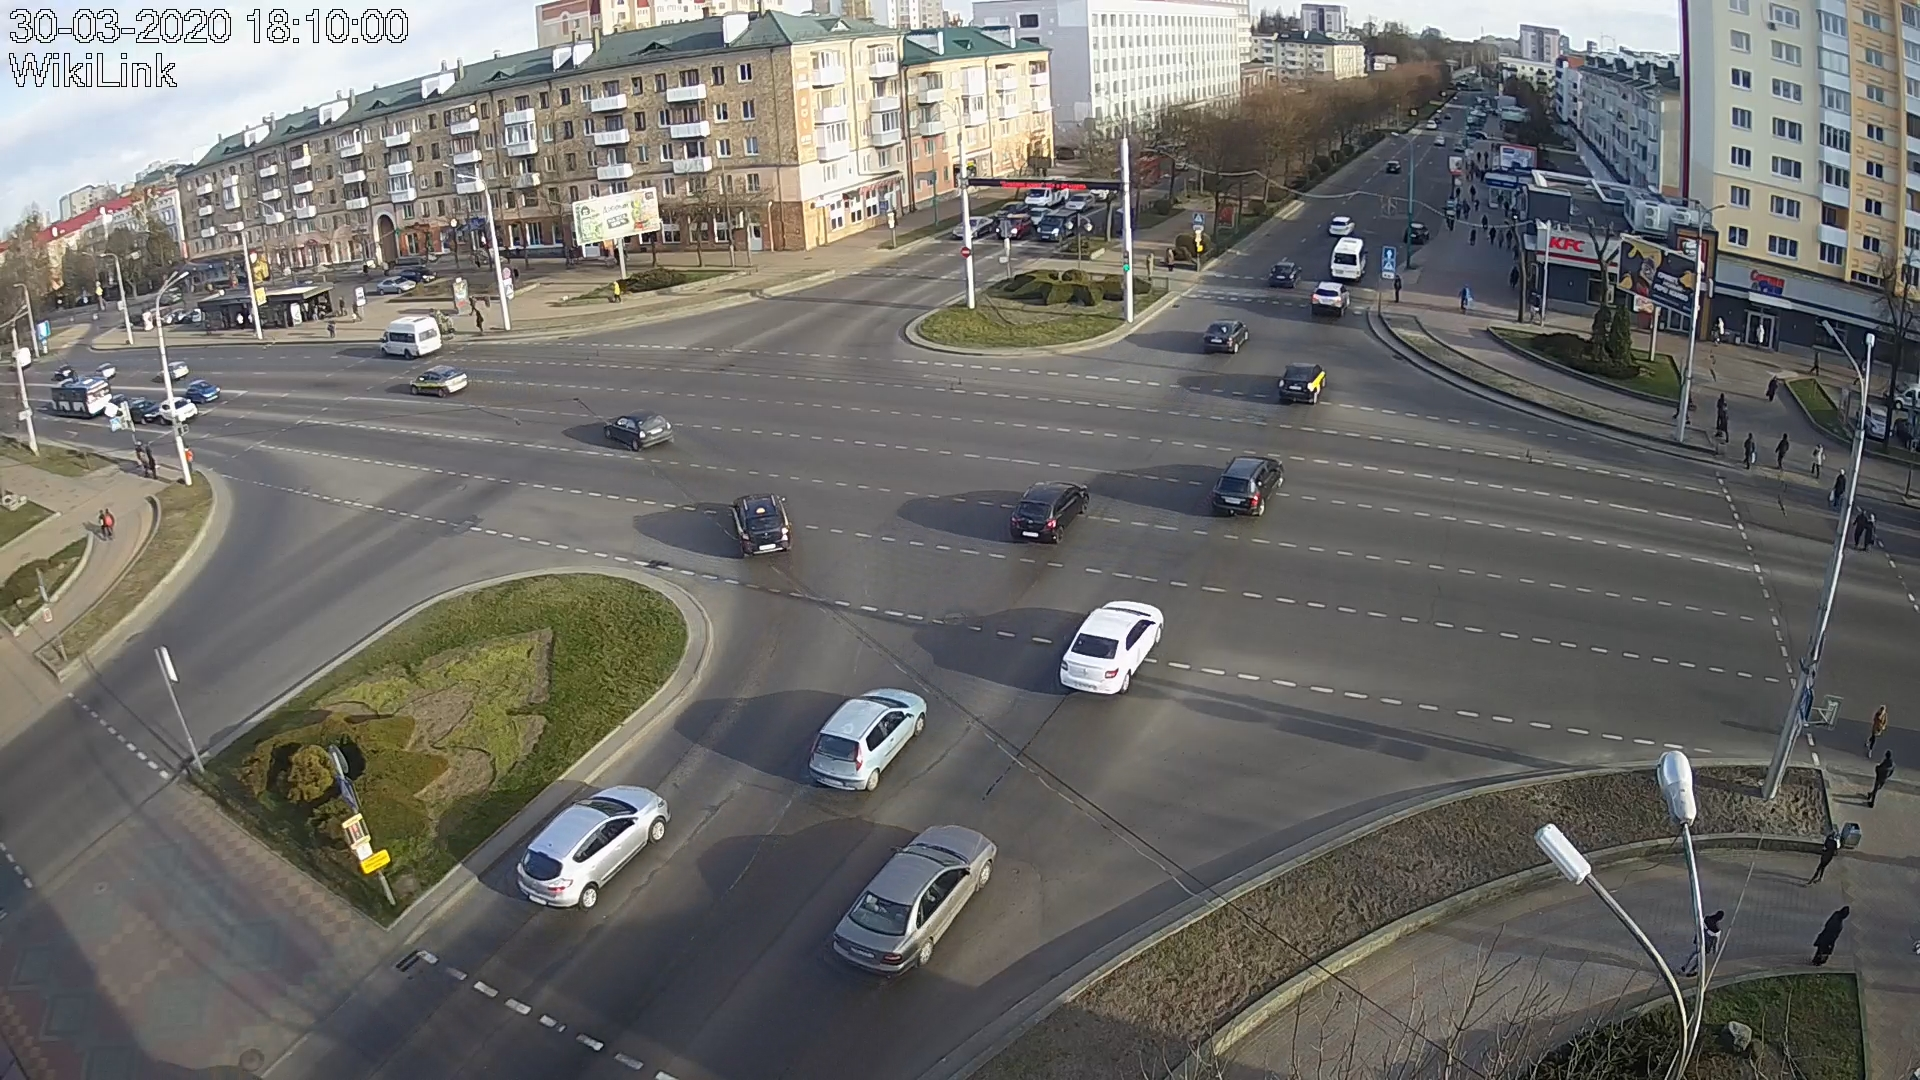bus: (51, 376, 112, 418)
car: (833, 823, 998, 977), (516, 785, 670, 911), (808, 687, 927, 791), (1062, 601, 1164, 696), (1011, 480, 1091, 545), (1211, 454, 1284, 516), (732, 492, 793, 560), (603, 407, 673, 451), (380, 316, 442, 360), (1278, 359, 1327, 404), (409, 365, 468, 398), (1328, 237, 1367, 284), (1036, 208, 1080, 245), (1205, 318, 1249, 353), (1311, 282, 1352, 318), (160, 396, 198, 426), (951, 216, 994, 240), (996, 215, 1031, 243), (185, 380, 220, 405), (1270, 261, 1303, 287), (127, 400, 161, 425)
